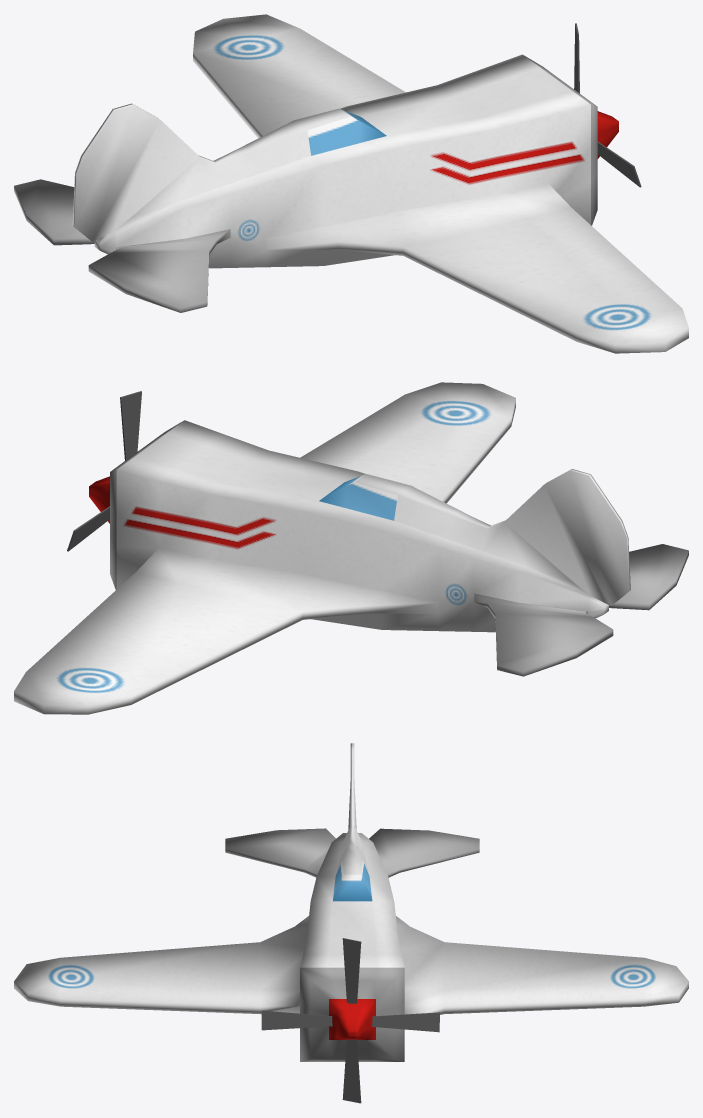
Rendered from og-cartoon-plane.glb.
3 renders of one model, top to bottom at view 1: azimuth 30°, elevation 25°; view 2: azimuth 150°, elevation 25°; view 3: azimuth 270°, elevation 25°, orthographic. The views are drawn at different scales.
Parts seen in each view (by area): view 1: Avion; view 2: Avion; view 3: Avion.
Part boxes in pixels (x1=…): Avion: x1=14, y1=14, x2=688, y2=353; Avion: x1=14, y1=382, x2=688, y2=714; Avion: x1=14, y1=743, x2=688, y2=1103.
Bounding box in the file's own units: 6.77 × 2.9 × 9.54.
1 material, 1 textured.
